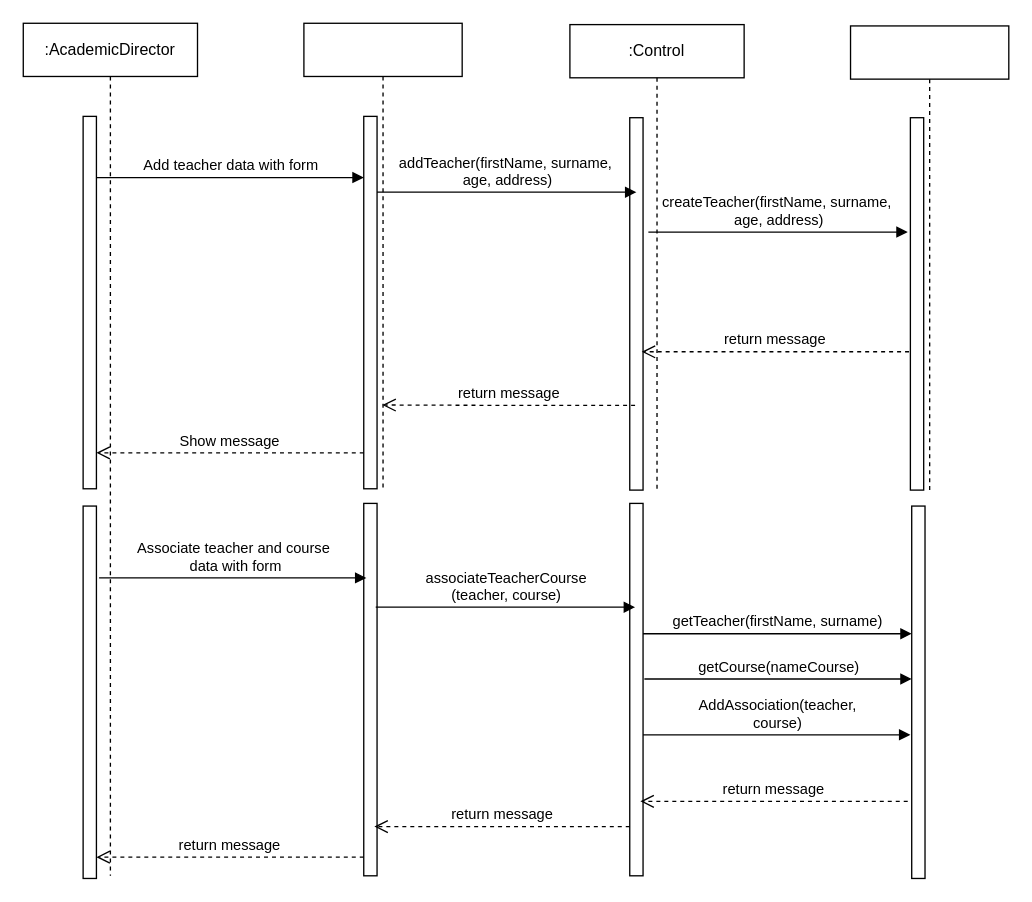
Some shapes in this 1032 by 902 pixel diagram are drawn without their labels. Each missing label, with the centre of its shape:
:ApplicationIHM: point 382,255
:Database: point 929,257
